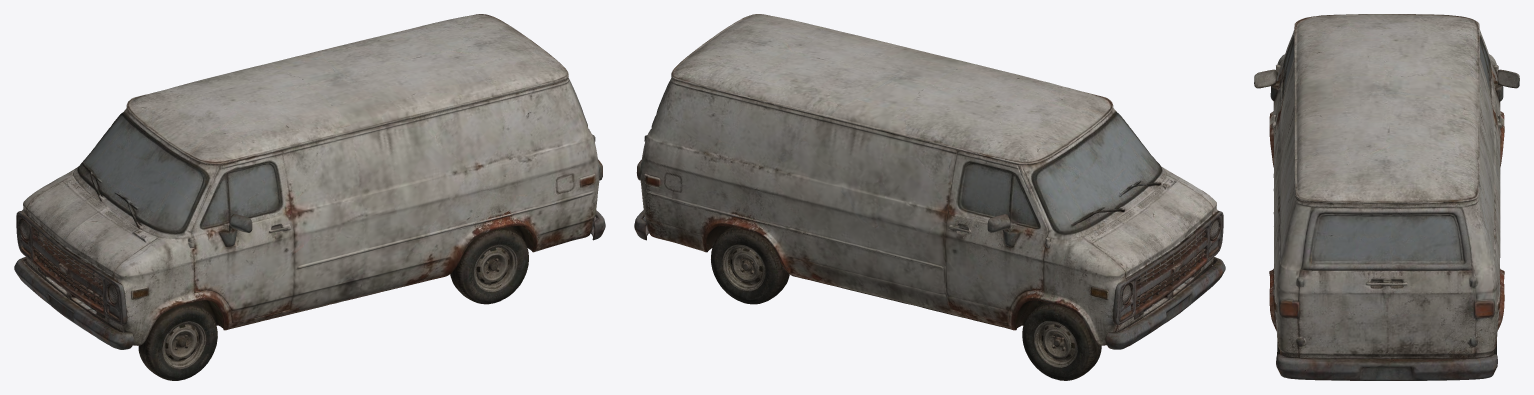
Rendered from car_van_light_q4.glb.
The picture shows the model from 3 angles, left to right: view 1: azimuth 30°, elevation 25°; view 2: azimuth 150°, elevation 25°; view 3: azimuth 270°, elevation 25°; orthographic projection. The views are drawn at different scales.
Size of the model in its own units: 0.0488 by 0.02 by 0.0217.
1 material, 1 textured.
